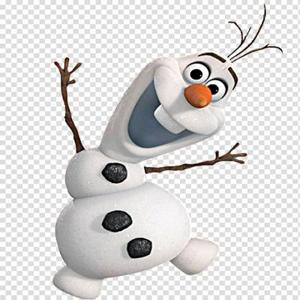olaf: (47, 14, 258, 294)
